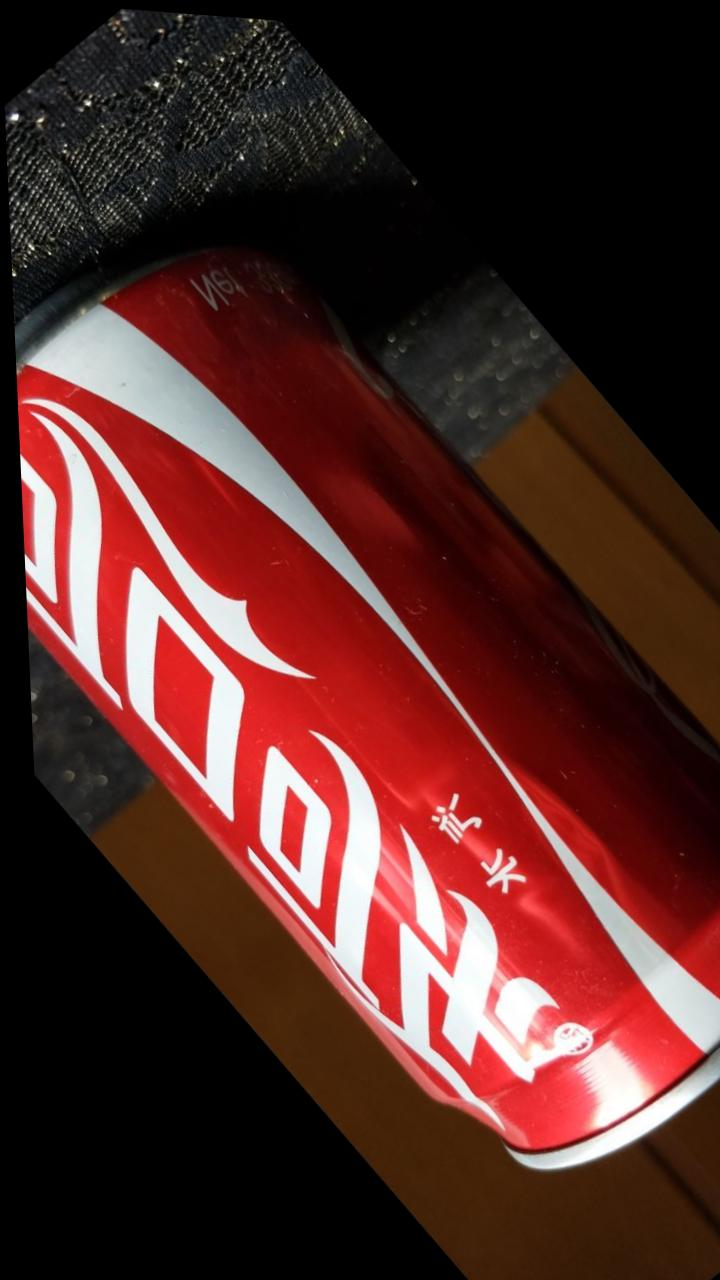metal: (19, 249, 719, 1163)
